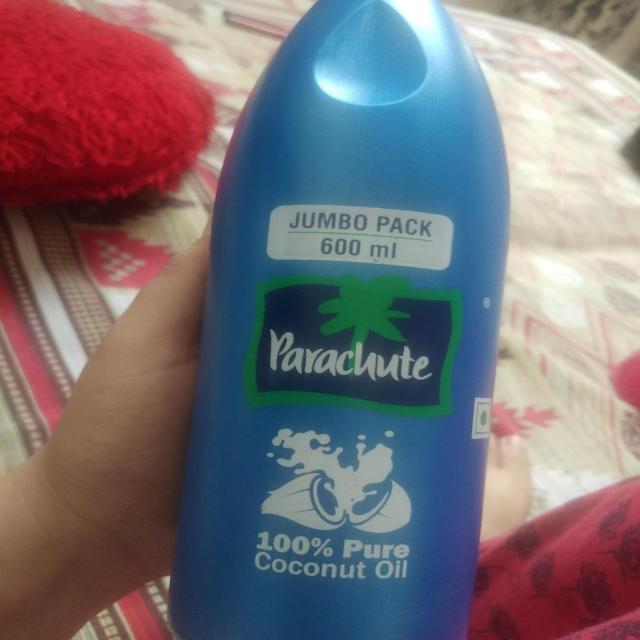parachute_oil: (164, 1, 532, 640)
